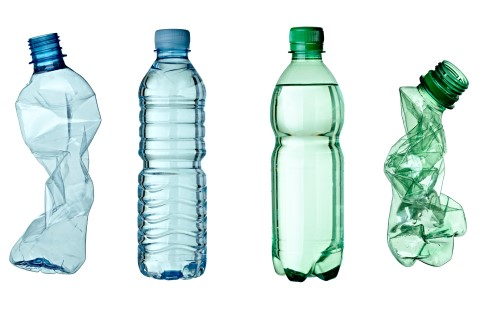plastic: (14, 23, 469, 282)
